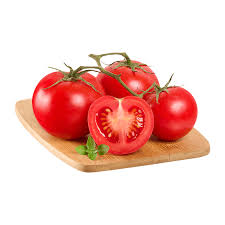tomate: (35, 49, 196, 145)
